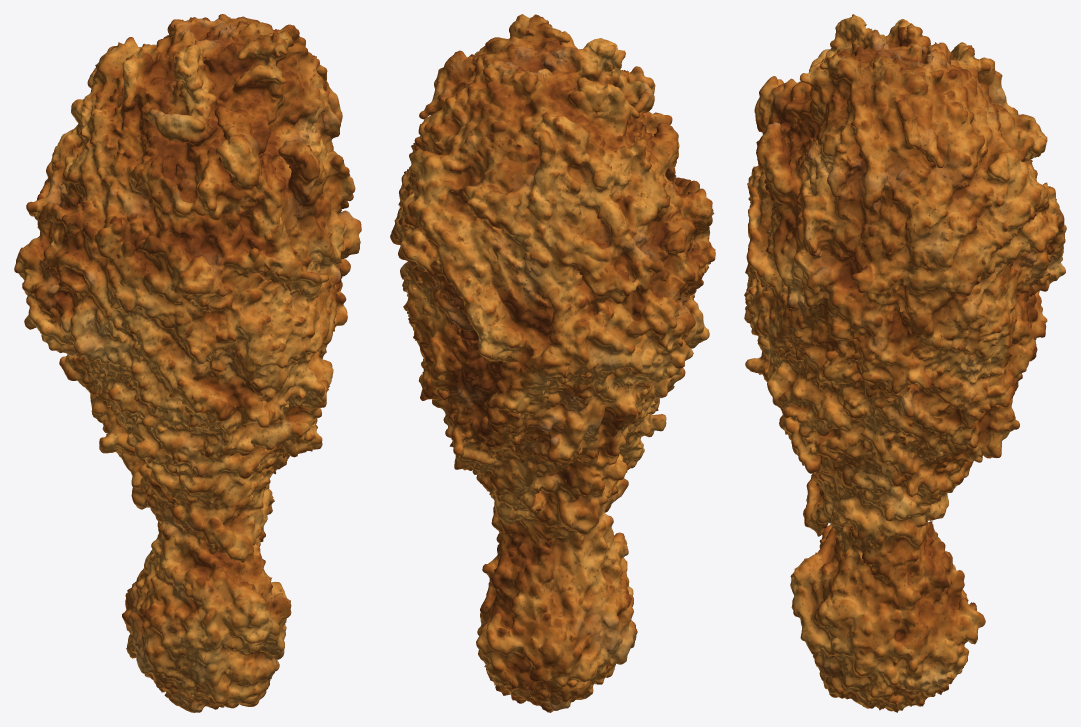
File: new_fried_chicken_photoreal.glb
3 renders of one model, left to right at view 1: azimuth 30°, elevation 25°; view 2: azimuth 150°, elevation 25°; view 3: azimuth 270°, elevation 25°, orthographic. The views are drawn at different scales.
Visible parts, largest first — view 1: Mesh_0; view 2: Mesh_0; view 3: Mesh_0.
Boxes of the visible parts, x1,y1,x2,y2 form: Mesh_0: [14, 14, 361, 712]; Mesh_0: [390, 14, 715, 712]; Mesh_0: [744, 14, 1066, 712].
Size of the model in its own units: 0.9269 by 2.09 by 0.9071.
1 material, 1 textured.
